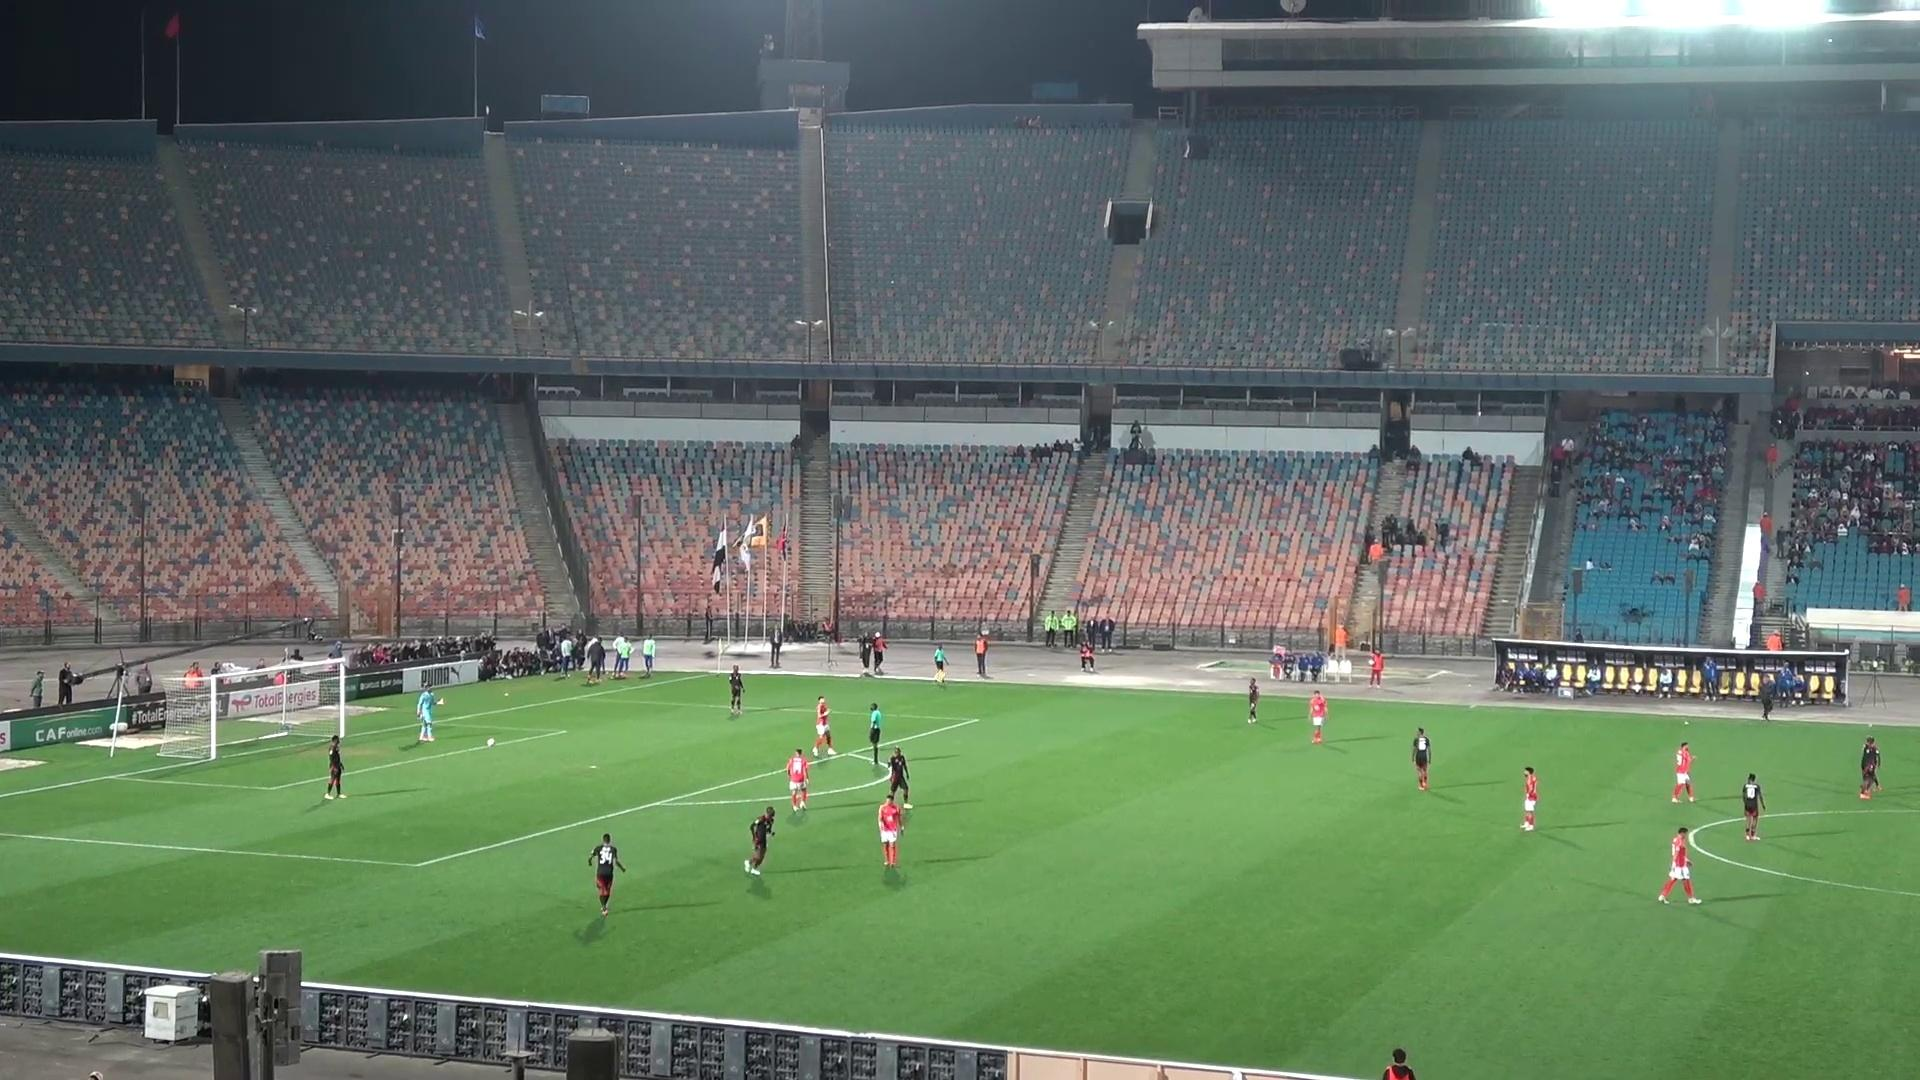Ball: (483, 733, 498, 748)
GK2: (415, 684, 443, 742)
Refree: (866, 702, 884, 762), (930, 644, 947, 684)
Team1: (1658, 828, 1700, 905), (878, 796, 911, 868), (785, 748, 811, 812), (811, 695, 837, 758), (1671, 741, 1695, 800), (1520, 765, 1539, 832), (1309, 688, 1327, 744)
Team2: (585, 833, 625, 916), (742, 807, 774, 876), (1741, 771, 1764, 843), (1857, 735, 1880, 800), (322, 735, 345, 800), (1408, 727, 1432, 791), (887, 746, 911, 807), (727, 665, 746, 717), (1245, 676, 1261, 723)
